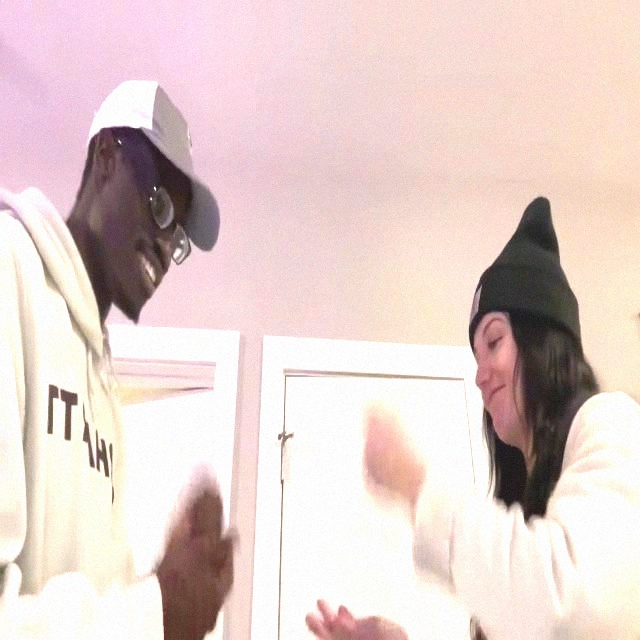Rock: (360, 409, 422, 502), (178, 471, 221, 543)
